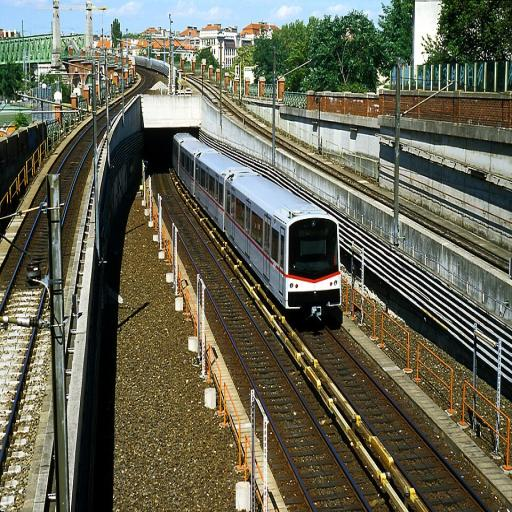V-Wagen: (171, 128, 345, 334)
